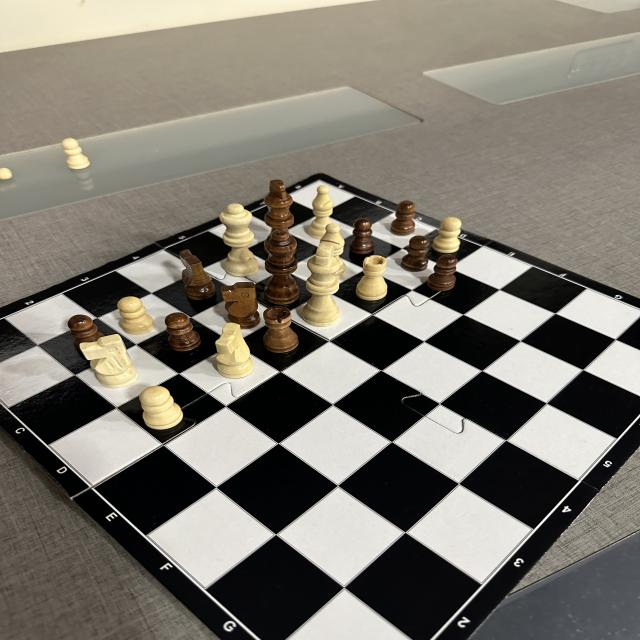Black-King: (264, 179, 293, 231)
Black-Knight: (176, 249, 214, 300), (221, 281, 259, 328)
Black-Pawn: (165, 312, 200, 351), (427, 254, 458, 292), (401, 236, 430, 272), (352, 218, 376, 255), (391, 199, 415, 235), (68, 313, 99, 340)
Black-Queen: (264, 231, 300, 305)
Black-Rook: (263, 304, 300, 352)
White-Bishop: (310, 185, 338, 238), (320, 225, 346, 276)
White-King: (303, 244, 340, 326)
White-Knight: (79, 333, 138, 388), (215, 322, 253, 378)
White-Pawn: (140, 385, 183, 430), (118, 297, 154, 334), (62, 138, 91, 170), (434, 218, 461, 252), (0, 168, 12, 179)
White-Queen: (220, 204, 258, 278)
White-Rook: (357, 256, 387, 300)
